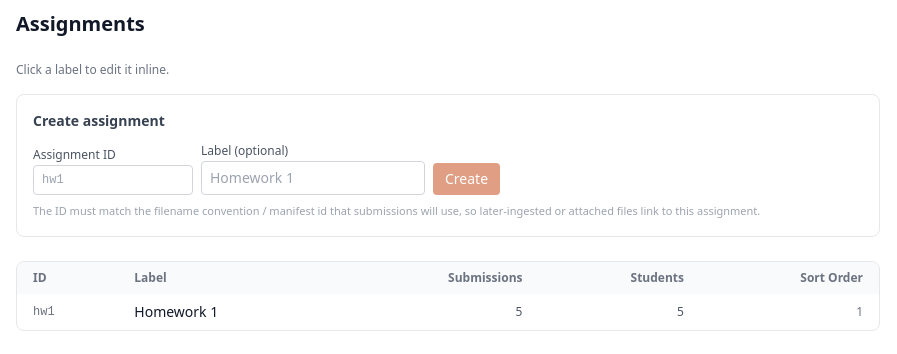
Test: AssignmentsView › clicking a label shows inline edit input
expect the table with test id "assignments-table" is shown: met, box [17,262,879,330]
Click the button with test id "label-20000000-0000-0000-0000-000000000001" at (176, 312), box [134,302,218,322]
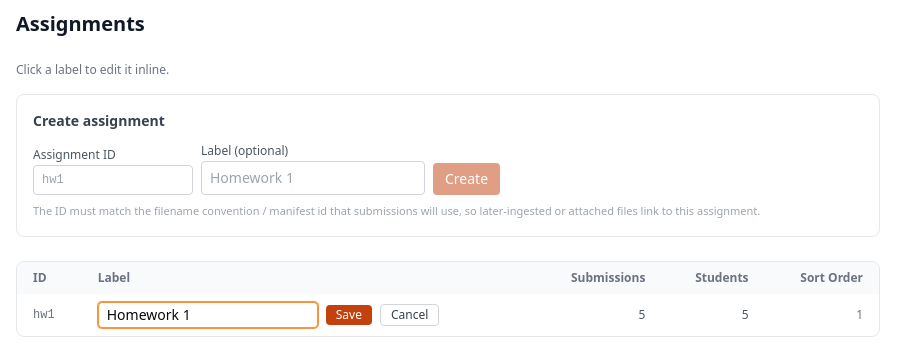
expect the field with test id "label-input-20000000-0000-0000-0000-000000000001" is shown: met, box [98,302,318,328]
